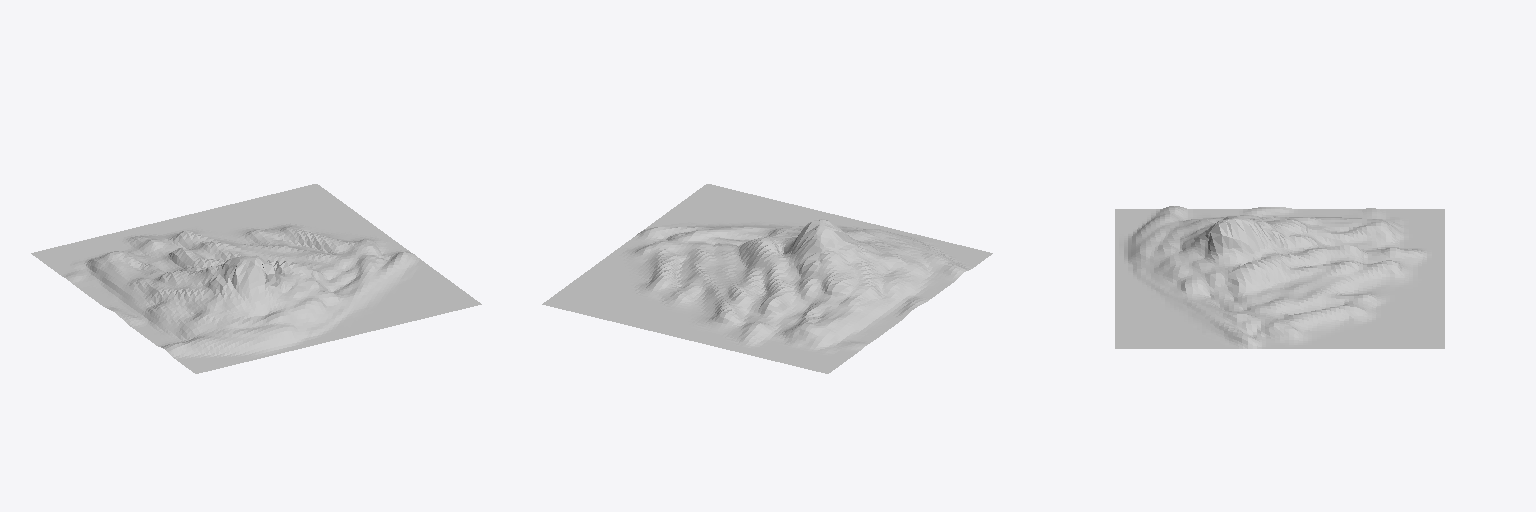
Rendered from terrain_smooth.obj.
3 views of the same model, side by side, from view 1: azimuth 30°, elevation 25°; view 2: azimuth 150°, elevation 25°; view 3: azimuth 270°, elevation 25° (orthographic).
Parts seen in each view (by area): view 1: Grid; view 2: Grid; view 3: Grid.
Part boxes in pixels (left/top/right/bottom): Grid: left=31, top=184, right=481, bottom=373; Grid: left=542, top=184, right=992, bottom=373; Grid: left=1115, top=206, right=1444, bottom=348.
Size of the model in its own units: 7.14 by 1.09 by 7.12.